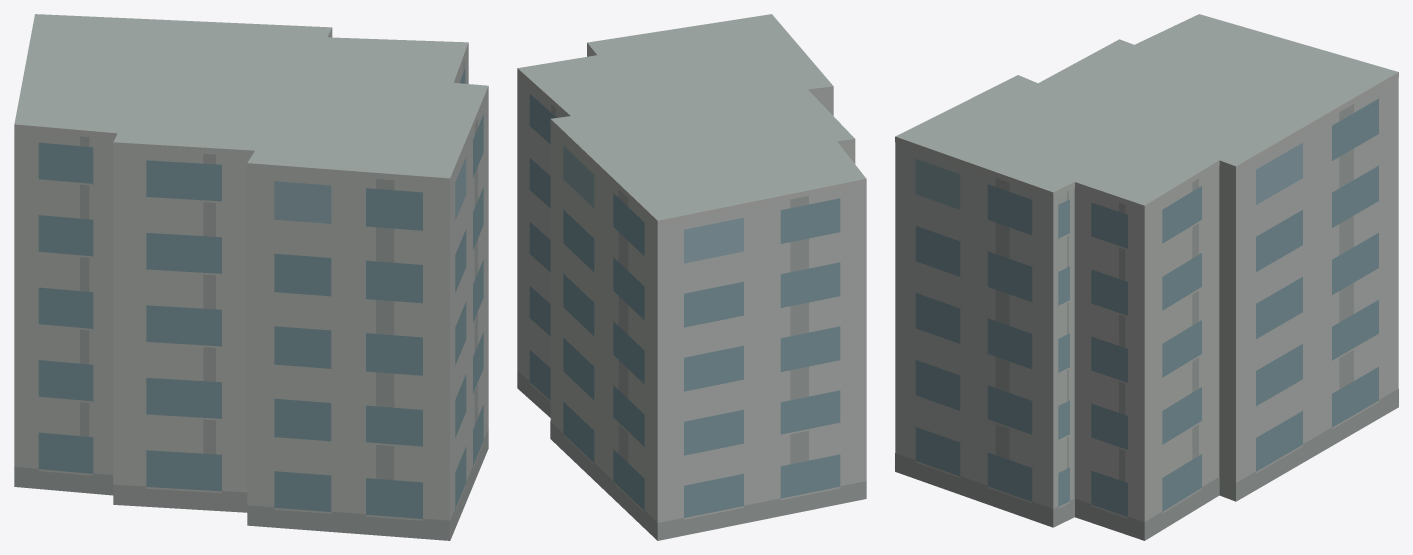
Rendered from survey-upis-33003110.glb.
The picture shows the model from 3 angles, left to right: view 1: azimuth 30°, elevation 25°; view 2: azimuth 150°, elevation 25°; view 3: azimuth 270°, elevation 25°; orthographic projection. The views are drawn at different scales.
Visible parts, largest first — view 1: survey-upis-33003110.tmp; view 2: survey-upis-33003110.tmp; view 3: survey-upis-33003110.tmp.
Part boxes in pixels (x1=…): survey-upis-33003110.tmp: x1=14, y1=14, x2=488, y2=540; survey-upis-33003110.tmp: x1=517, y1=14, x2=866, y2=540; survey-upis-33003110.tmp: x1=895, y1=14, x2=1398, y2=540.
Size of the model in its own units: 17.42 by 14.2 by 19.34.
